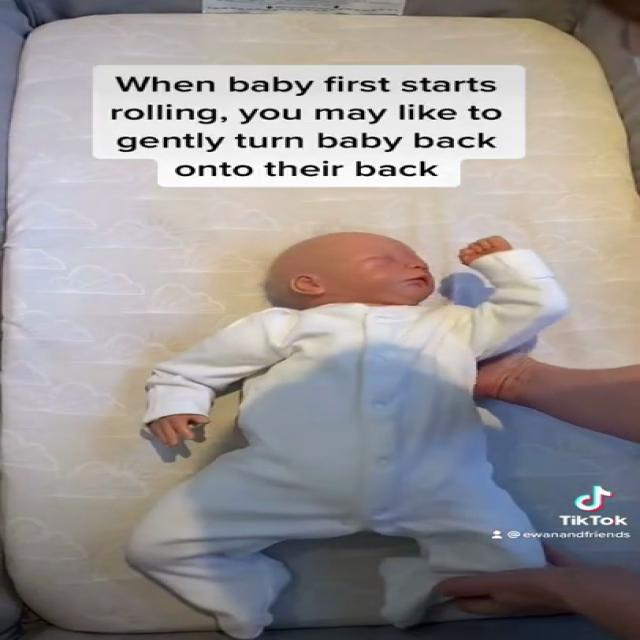baby: (119, 224, 562, 640)
